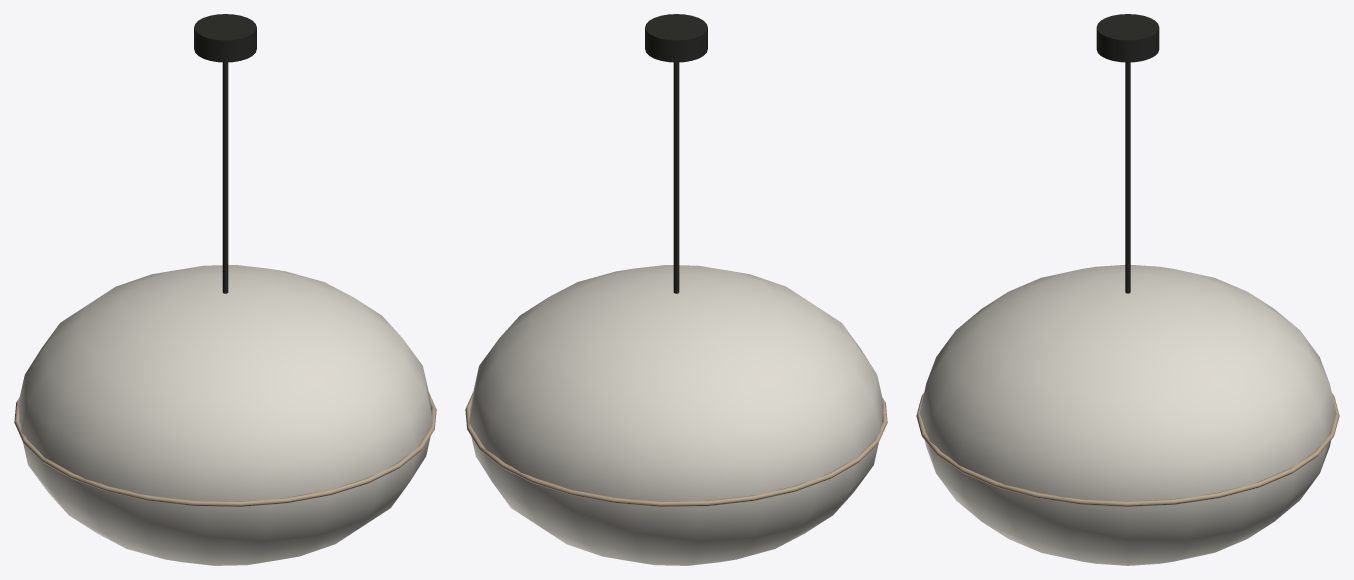
Rendered from pendant.glb.
The picture shows the model from 3 angles, left to right: view 1: azimuth 30°, elevation 25°; view 2: azimuth 150°, elevation 25°; view 3: azimuth 270°, elevation 25°; orthographic projection.
Parts seen in each view (by area): view 1: studio/cream, studio/black, studio/sand; view 2: studio/cream, studio/black, studio/sand; view 3: studio/cream, studio/black, studio/sand.
Boxes of the visible parts, x1=… form: studio/cream: x1=18, y1=265, x2=432, y2=565; studio/black: x1=194, y1=14, x2=256, y2=293; studio/sand: x1=14, y1=393, x2=436, y2=506; studio/cream: x1=469, y1=265, x2=883, y2=565; studio/black: x1=645, y1=14, x2=707, y2=293; studio/sand: x1=465, y1=393, x2=887, y2=506; studio/cream: x1=919, y1=265, x2=1336, y2=565; studio/black: x1=1096, y1=14, x2=1159, y2=293; studio/sand: x1=916, y1=393, x2=1339, y2=506.
Bounding box in the file's own units: 0.608 × 0.81 × 0.608.
